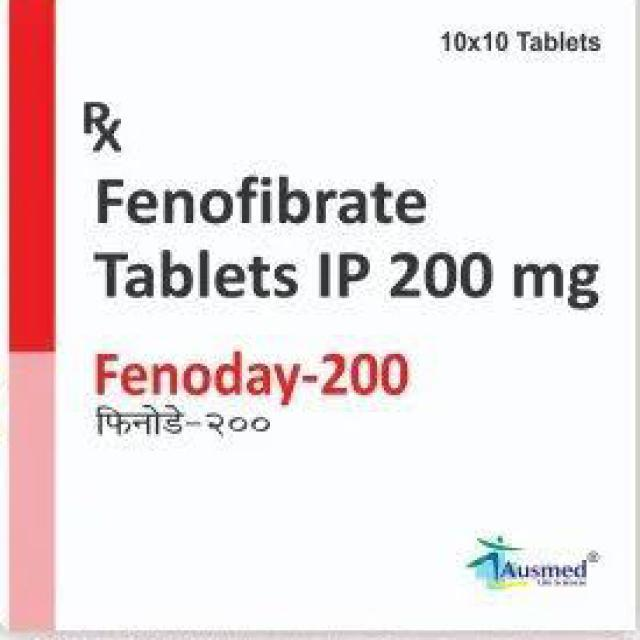drug-name: (96, 339, 412, 405)
